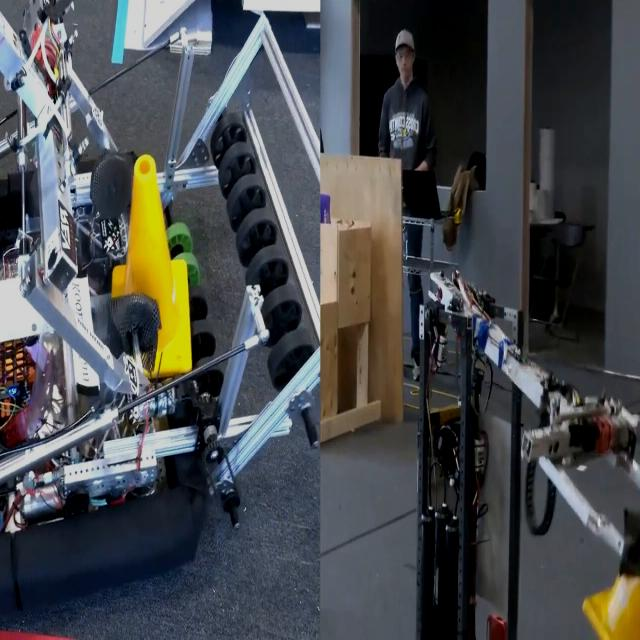frc_cone: (110, 154, 191, 376), (582, 490, 640, 640)
frc_cube: (321, 190, 334, 226)
